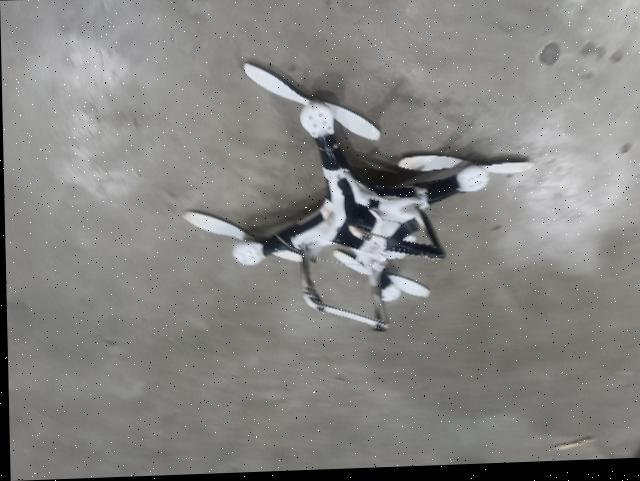drone: (160, 41, 539, 352)
